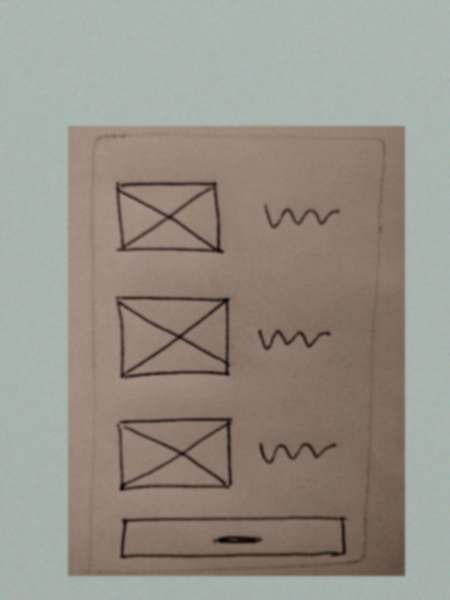button: (113, 511, 350, 564)
image: (110, 292, 238, 386), (109, 414, 240, 497), (110, 175, 226, 263)
text: (256, 195, 343, 240), (254, 318, 338, 359), (256, 433, 340, 472)
